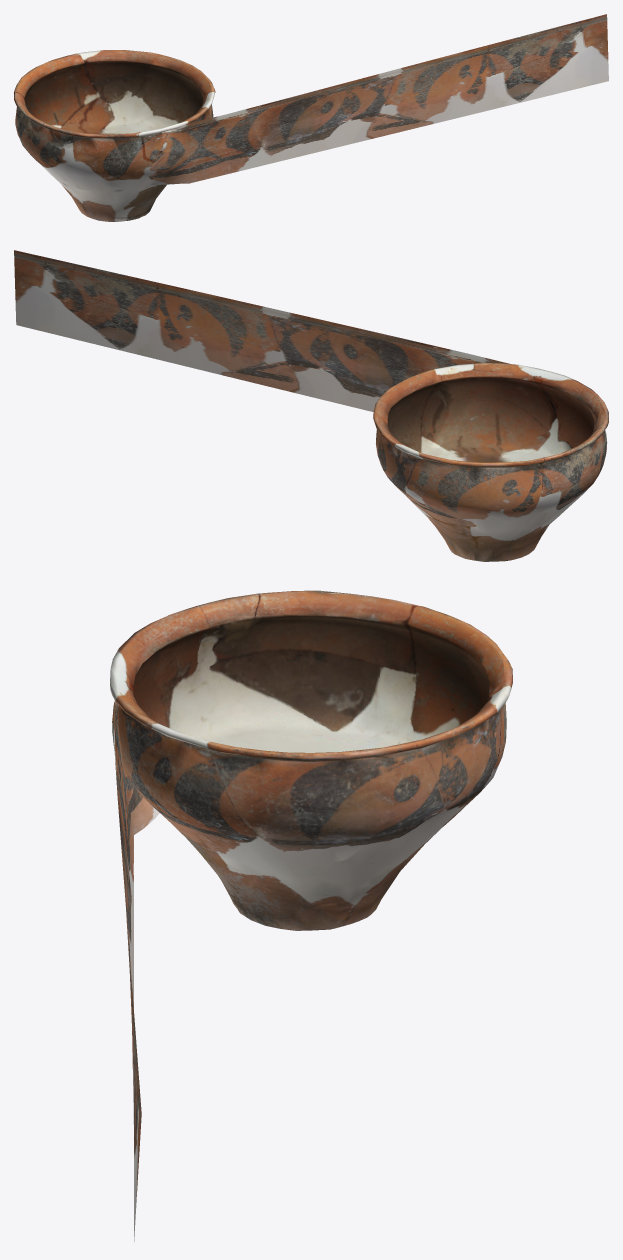
The model's file is aaa.glb.
The picture shows the model from 3 angles, top to bottom: view 1: azimuth 30°, elevation 25°; view 2: azimuth 150°, elevation 25°; view 3: azimuth 270°, elevation 25°; orthographic projection. The views are drawn at different scales.
Parts seen in each view (by area): view 1: qw; view 2: qw; view 3: qw.
Part boxes in pixels (<box>): qw: <box>14,14,608,221</box>; qw: <box>14,250,608,561</box>; qw: <box>110,590,512,1241</box>.
Size of the model in its own units: 1.22 by 0.2496 by 0.3969.
1 material, 1 textured.
